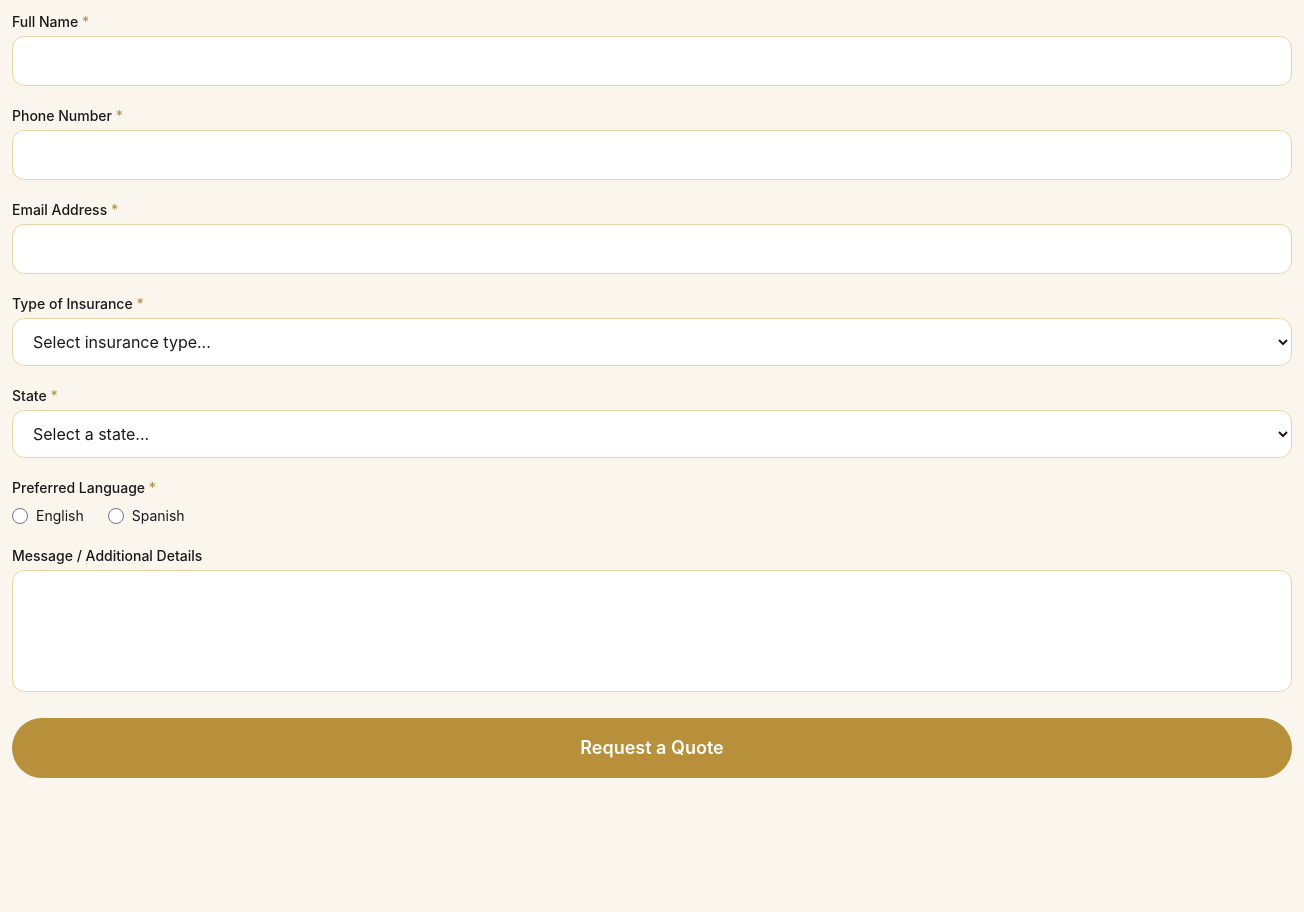
QuoteForm › shows phone validation error for invalid format
Type "123" into the field labelled "Phone Number *" at [652, 155], box [12,130,1292,180]
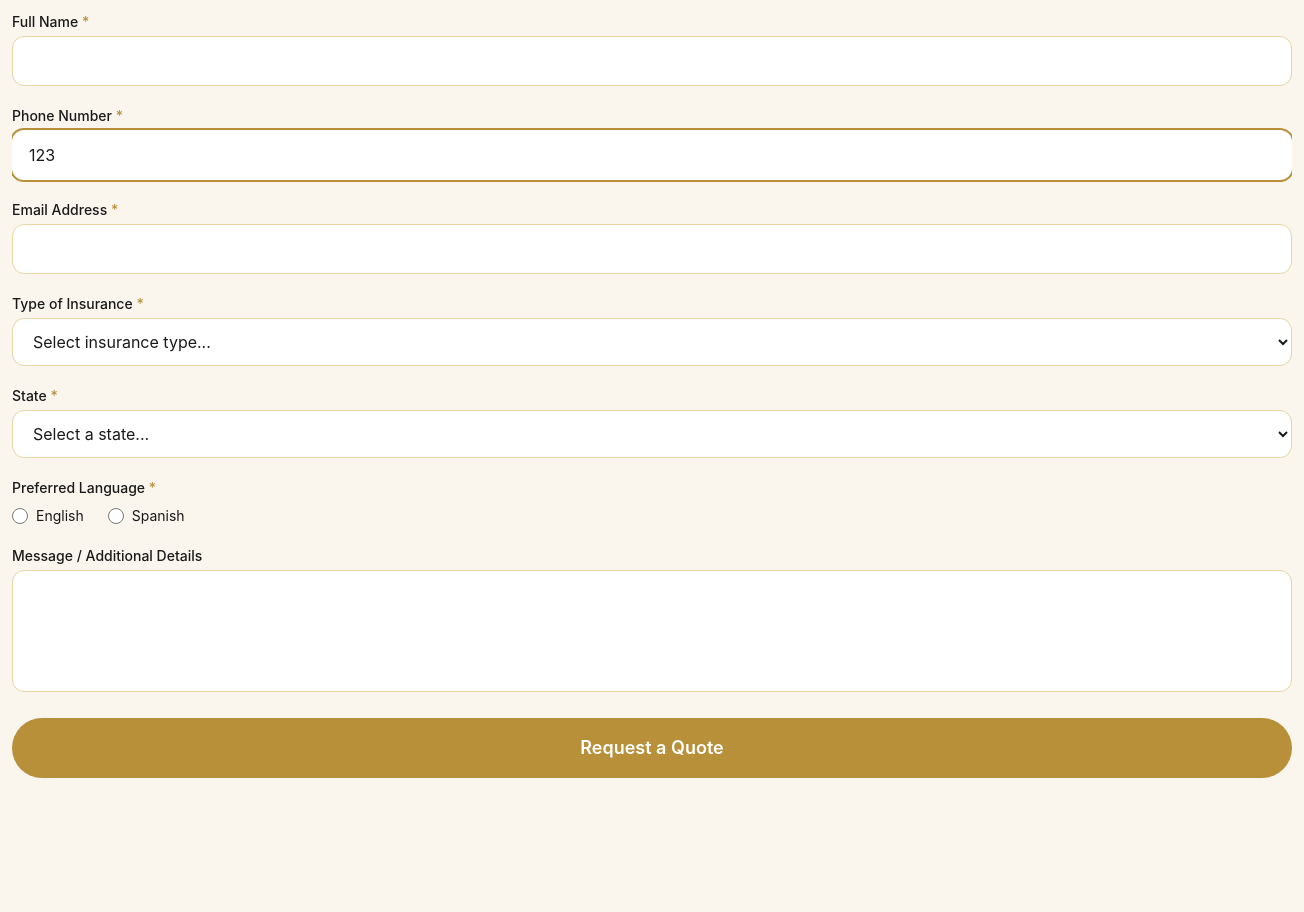
Click the button "Request a Quote" at [652, 748], box [12,718,1292,778]
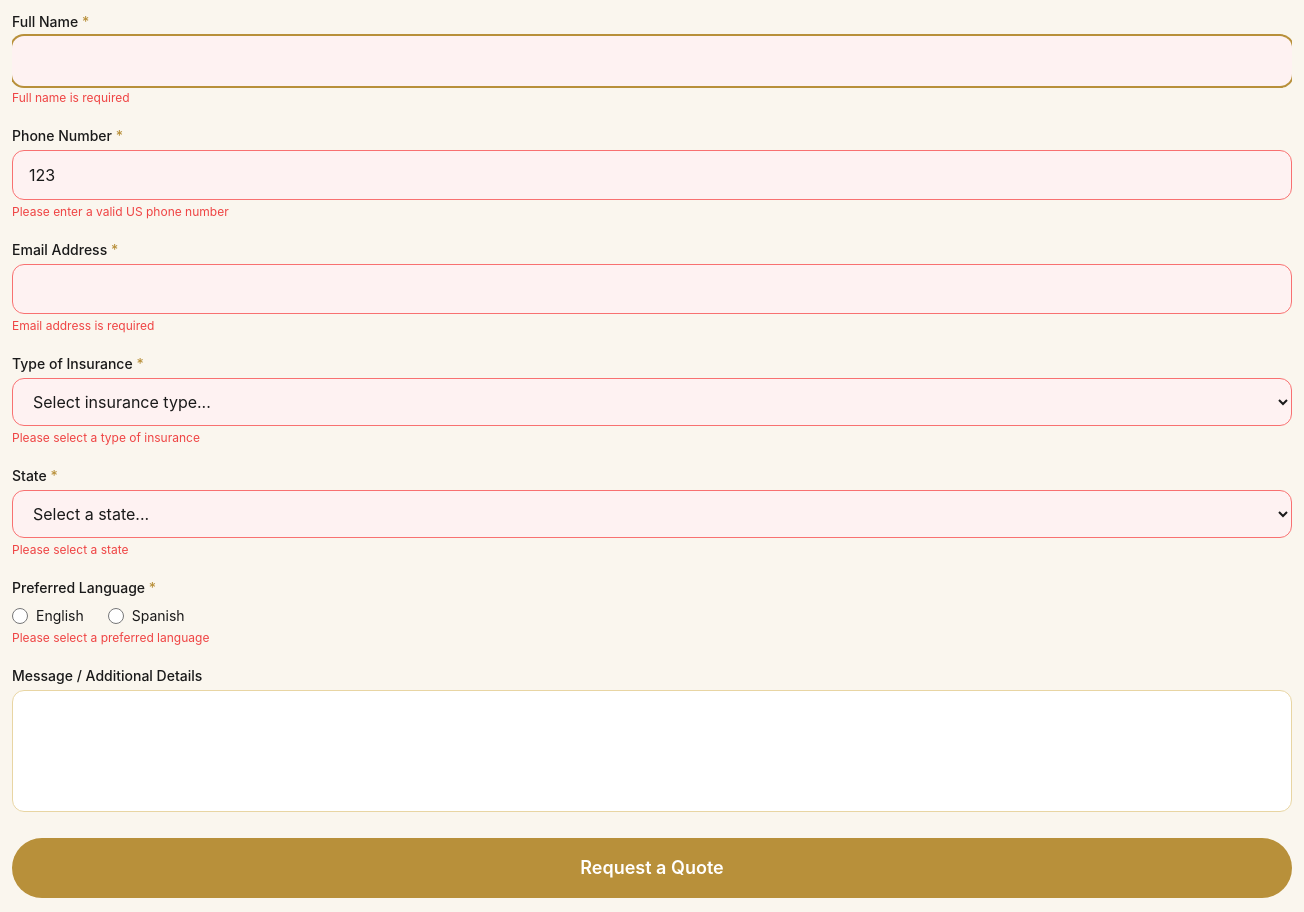
Expected: the text "Please enter a valid US phone number" is shown, [12,204,229,219]
